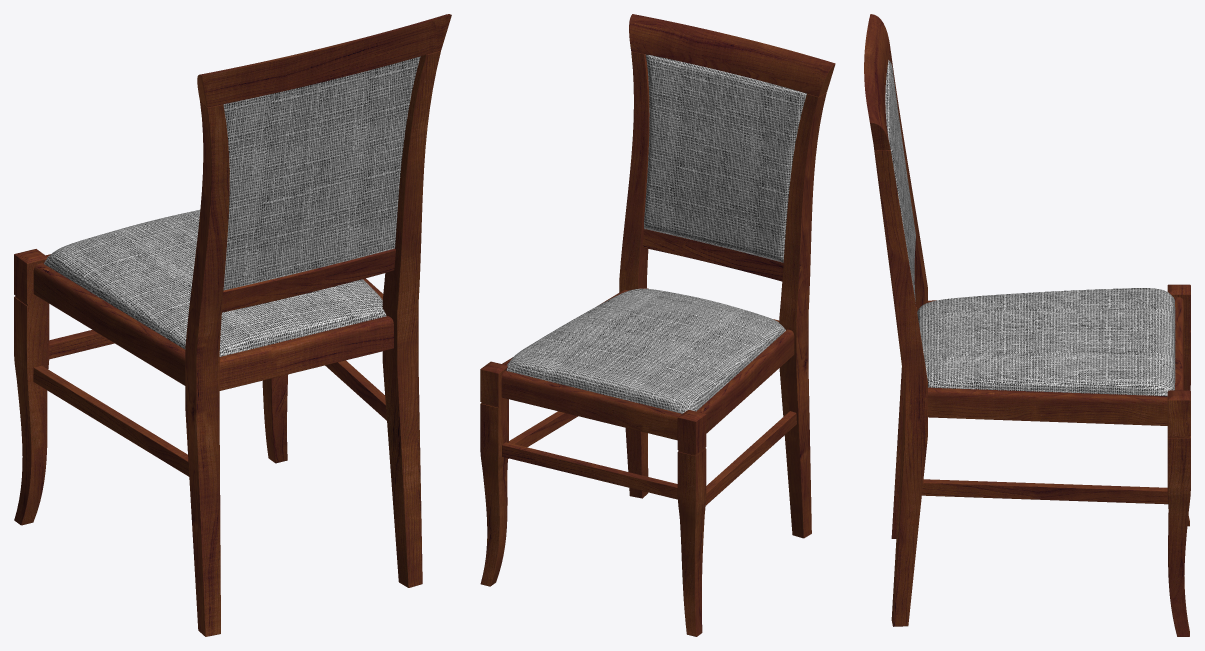
File: kitchen_chair.fbx
The picture shows the model from 3 angles, left to right: view 1: azimuth 30°, elevation 25°; view 2: azimuth 150°, elevation 25°; view 3: azimuth 270°, elevation 25°; orthographic projection. The views are drawn at different scales.
Visible parts, largest first — view 1: table&chair_Akacia_02; view 2: table&chair_Akacia_02; view 3: table&chair_Akacia_02.
Boxes of the visible parts, bbox=[...] form: table&chair_Akacia_02: bbox=[14, 14, 451, 636]; table&chair_Akacia_02: bbox=[480, 14, 835, 636]; table&chair_Akacia_02: bbox=[864, 14, 1190, 636].
Bounding box in the file's own units: 191 × 394 × 228.
